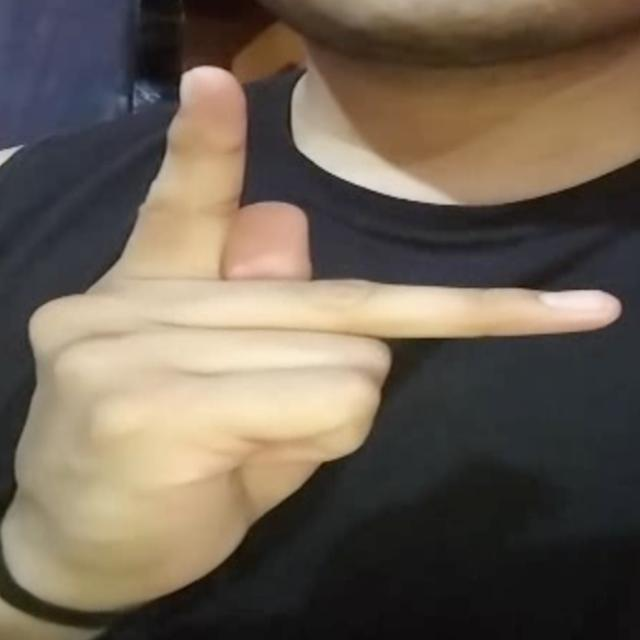P: (6, 54, 622, 591)
